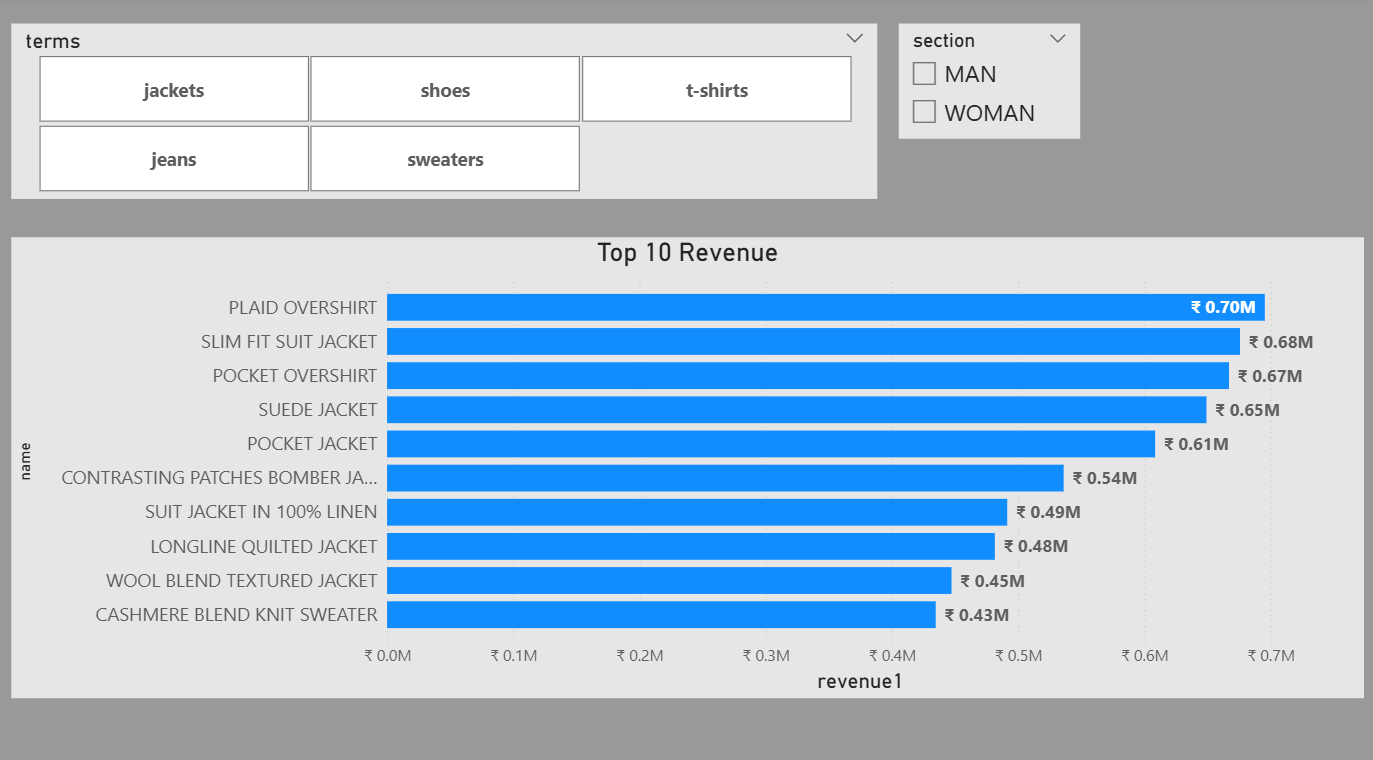

The dashboard page shown, as its layout file describes it:
{"tool":"powerbi","page":{"name":"Page 2","canvas":[1280,720],"ordinal":1},"visuals":[{"type":"slicer","fields":{"Values":["Zara_Sales_Analysis.terms"]},"box":[10,25.7,805.7,162.9],"z":0},{"type":"slicer","fields":{"Values":["Zara_Sales_Analysis.section"]},"box":[835.7,25.7,168.6,107.1],"z":1000},{"type":"barChart","title":"Top 10 Revenue","fields":{"Category":["Zara_Sales_Analysis.name"],"Y":["Zara_Sales_Analysis.revenue1"]},"box":[10,224.3,1258.6,428.6],"z":2000}]}

Visuals, with their boxes in screenshot pixels (x1, y1, x2, y2), scaled from the page's 1280x720 canvas onto the 1373x760 screenshot:
slicer - Zara_Sales_Analysis.terms: [x1=11, y1=27, x2=875, y2=199]
slicer - Zara_Sales_Analysis.section: [x1=896, y1=27, x2=1077, y2=140]
"Top 10 Revenue" barChart: [x1=11, y1=237, x2=1361, y2=689]
